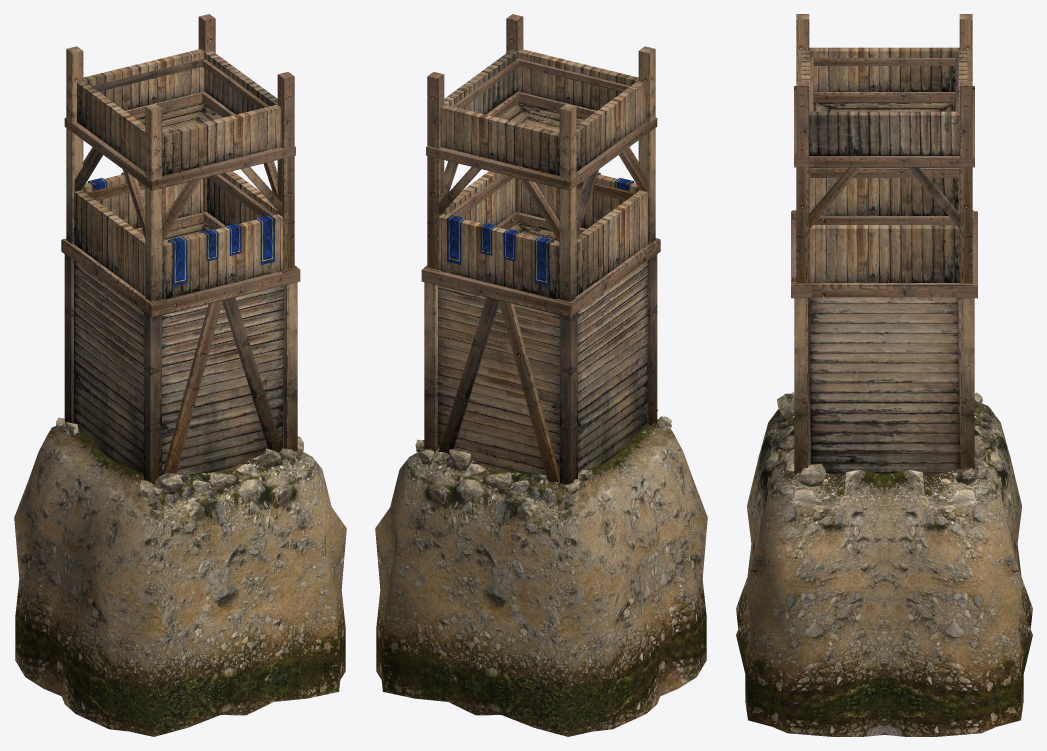
Rendered from structures-romans-siege-wall-tower.glb.
The picture shows the model from 3 angles, left to right: view 1: azimuth 30°, elevation 25°; view 2: azimuth 150°, elevation 25°; view 3: azimuth 270°, elevation 25°; orthographic projection. The views are drawn at different scales.
Visible parts, largest first — view 1: siege_walltwr_woodMesh, siege_walltwr_turf, Plane_018; view 2: siege_walltwr_woodMesh, siege_walltwr_turf, Plane_018; view 3: siege_walltwr_woodMesh, siege_walltwr_turf.
Part boxes in pixels (x1=…): siege_walltwr_woodMesh: x1=61, y1=14, x2=300, y2=484; siege_walltwr_turf: x1=14, y1=417, x2=346, y2=736; Plane_018: x1=87, y1=172, x2=274, y2=286; siege_walltwr_woodMesh: x1=421, y1=14, x2=660, y2=484; siege_walltwr_turf: x1=375, y1=409, x2=707, y2=736; Plane_018: x1=447, y1=172, x2=634, y2=286; siege_walltwr_woodMesh: x1=791, y1=14, x2=977, y2=475; siege_walltwr_turf: x1=736, y1=391, x2=1032, y2=736.
Size of the model in its own units: 4.1 by 9.1 by 3.92.
Materials: 3 (3 with a texture image).
